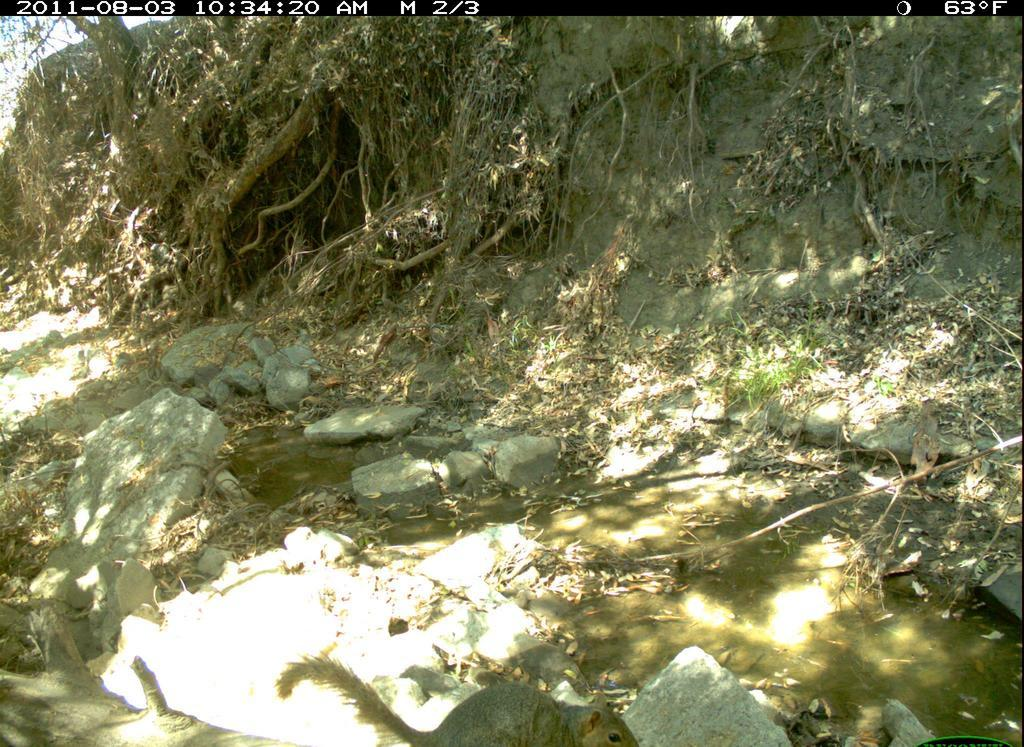squirrel: (271, 651, 662, 747)
